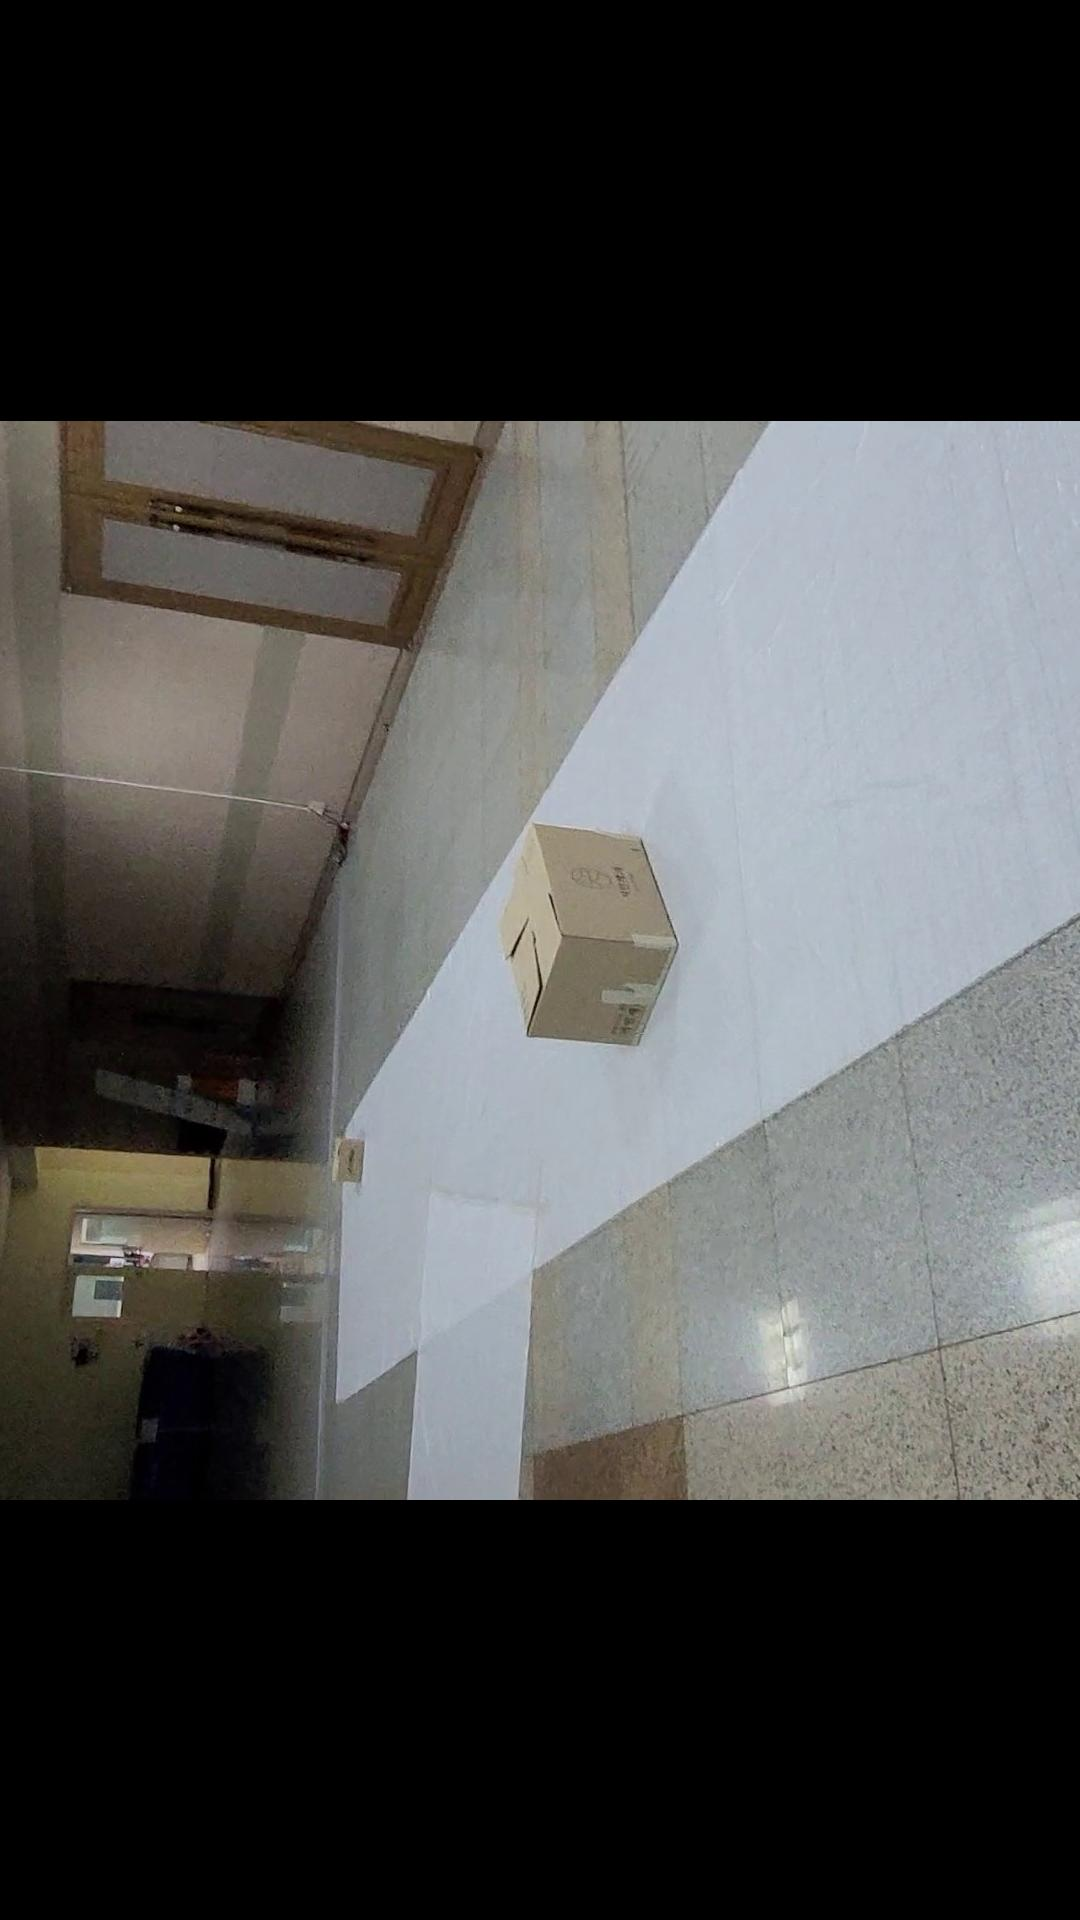Box: (483, 771, 713, 1072), (305, 1120, 382, 1209)
